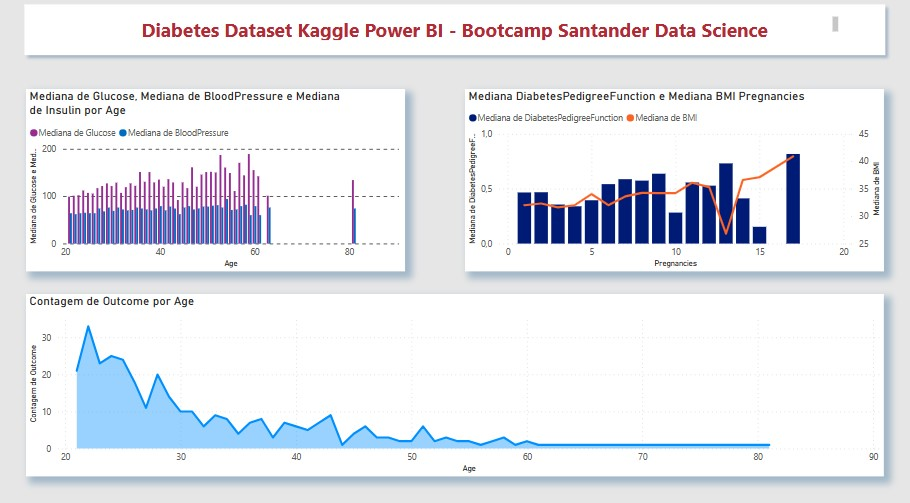

What the dashboard file says about the page in this screenshot:
{"tool":"powerbi","page":{"name":"Página 1","canvas":[1280,720],"ordinal":0},"visuals":[{"type":"shape","box":[23.4,0,1226.4,89.4],"z":0},{"type":"clusteredColumnChart","fields":{"Category":["diabetes.Age"],"Y":["Median(diabetes.Glucose)","Median(diabetes.BloodPressure)"]},"box":[35.7,127.9,532.1,255.7],"z":2},{"type":"lineClusteredColumnComboChart","title":"Mediana  DiabetesPedigreeFunction e Mediana  BMI  Pregnancies","fields":{"Category":["diabetes.Pregnancies"],"Y":["Median(diabetes.DiabetesPedigreeFunction)"],"Y2":["Median(diabetes.BMI)"]},"box":[651.7,127.9,588.4,255.7],"z":3},{"type":"areaChart","fields":{"Category":["diabetes.Age"],"Y":["CountNonNull(diabetes.Outcome)"]},"box":[35.7,415.2,1204.4,255.7],"z":4},{"type":"textbox","box":[100.4,20.6,1079.3,42.6],"z":5}]}

Visuals, with their boxes in screenshot pixels (x1, y1, x2, y2), scaled from the page's 1280x720 canvas onto the 910x503 screenshot:
shape: {"left": 17, "top": 0, "right": 889, "bottom": 62}
clusteredColumnChart - diabetes.Age x Median(diabetes.Glucose): {"left": 25, "top": 89, "right": 404, "bottom": 268}
"Mediana  DiabetesPedigreeFunction e Mediana  BMI  Pregnancies" lineClusteredColumnComboChart: {"left": 463, "top": 89, "right": 882, "bottom": 268}
areaChart - diabetes.Age x CountNonNull(diabetes.Outcome): {"left": 25, "top": 290, "right": 882, "bottom": 469}
textbox: {"left": 71, "top": 14, "right": 839, "bottom": 44}
